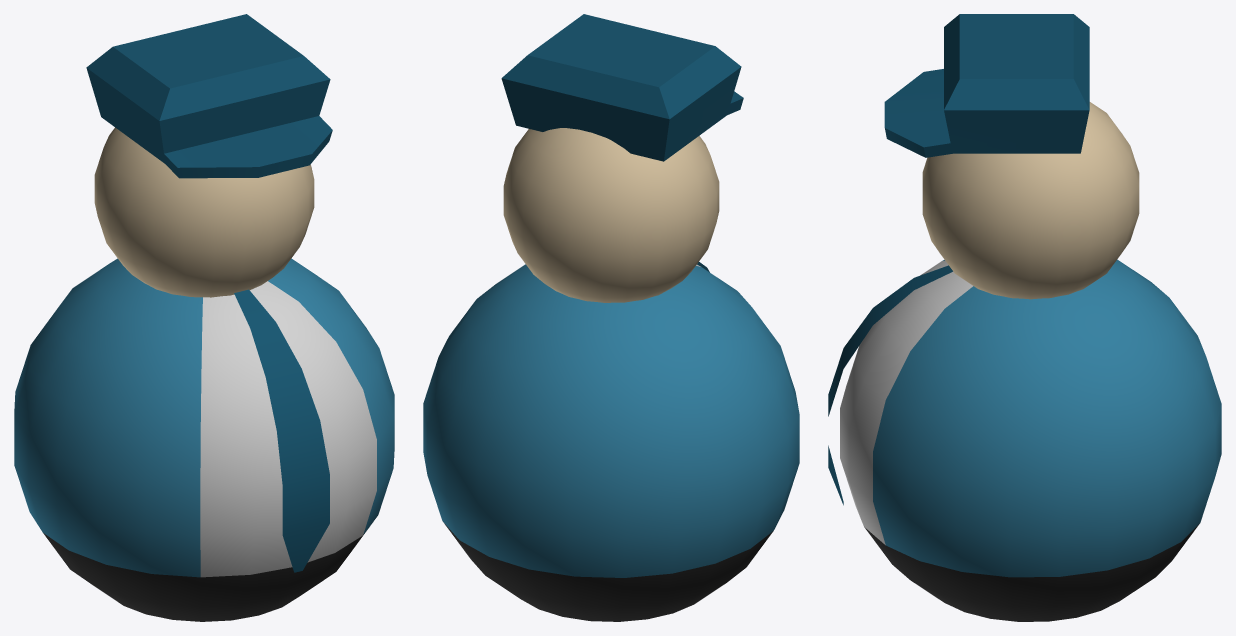
File: police.fbx
The picture shows the model from 3 angles, left to right: view 1: azimuth 30°, elevation 25°; view 2: azimuth 150°, elevation 25°; view 3: azimuth 270°, elevation 25°; orthographic projection.
Visible parts, largest first — view 1: Cube; view 2: Cube; view 3: Cube.
Part boxes in pixels (box(x1,y1,x2,y2)): Cube: box(14, 14, 394, 621); Cube: box(423, 14, 799, 621); Cube: box(828, 14, 1221, 621).
Size of the model in its own units: 294 by 477 by 305.
